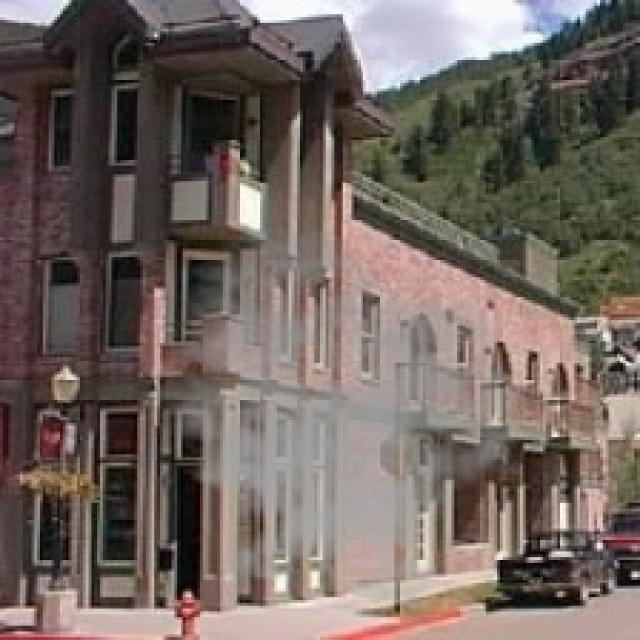smoke: (123, 223, 543, 611)
